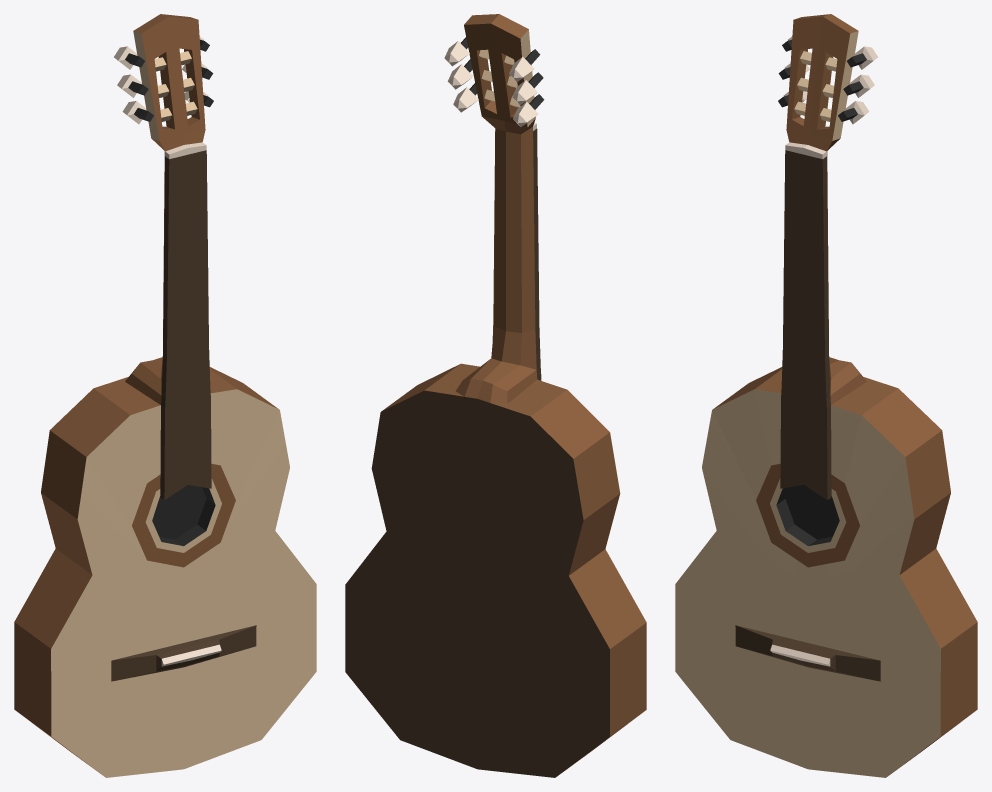
File: guitar-acoustic.glb
3 views of the same model, side by side, from view 1: azimuth 30°, elevation 25°; view 2: azimuth 150°, elevation 25°; view 3: azimuth 330°, elevation 25° (orthographic).
Visible parts, largest first — view 1: guitar-acoustic; view 2: guitar-acoustic; view 3: guitar-acoustic.
Part boxes in pixels (x1,y1,x2,y2): guitar-acoustic: [14, 14, 316, 777]; guitar-acoustic: [345, 14, 646, 777]; guitar-acoustic: [675, 14, 977, 777].
Bounding box in the file's own units: 0.3749 × 1 × 0.1131.
1 material, 1 textured.
